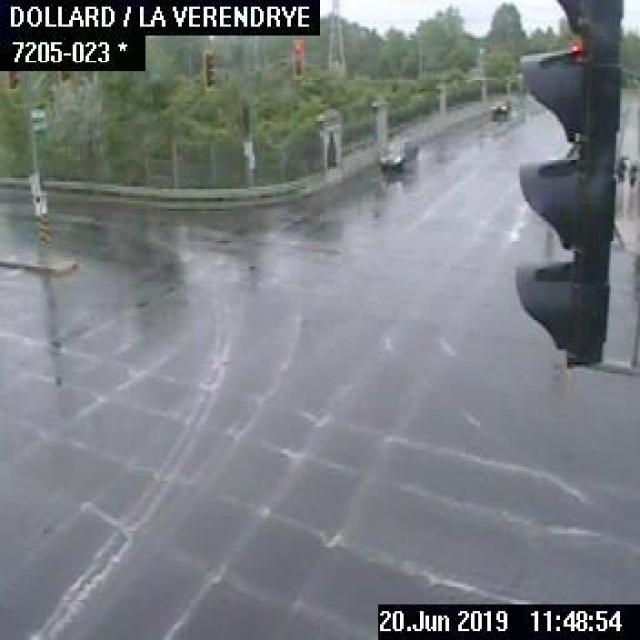pedestrian: (626, 158, 638, 192), (614, 155, 624, 189)
vehicle: (375, 133, 420, 171), (487, 93, 513, 118)
